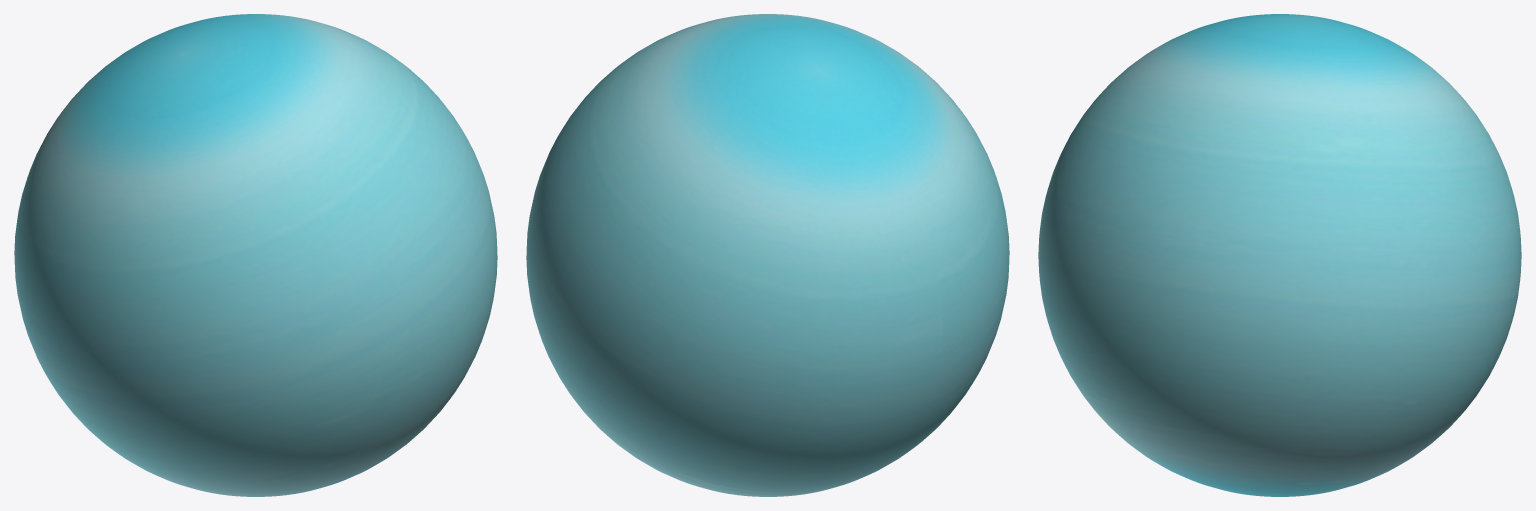
File: Uranus.obj
The picture shows the model from 3 angles, left to right: view 1: azimuth 30°, elevation 25°; view 2: azimuth 150°, elevation 25°; view 3: azimuth 270°, elevation 25°; orthographic projection.
Parts seen in each view (by area): view 1: Mars_Sphere; view 2: Mars_Sphere; view 3: Mars_Sphere.
Boxes of the visible parts, x1,y1,x2,y2 form: Mars_Sphere: [14, 14, 497, 496]; Mars_Sphere: [526, 14, 1009, 496]; Mars_Sphere: [1038, 14, 1521, 496].
Size of the model in its own units: 12.71 by 12.71 by 12.71.
Materials: 1 (1 with a texture image).
